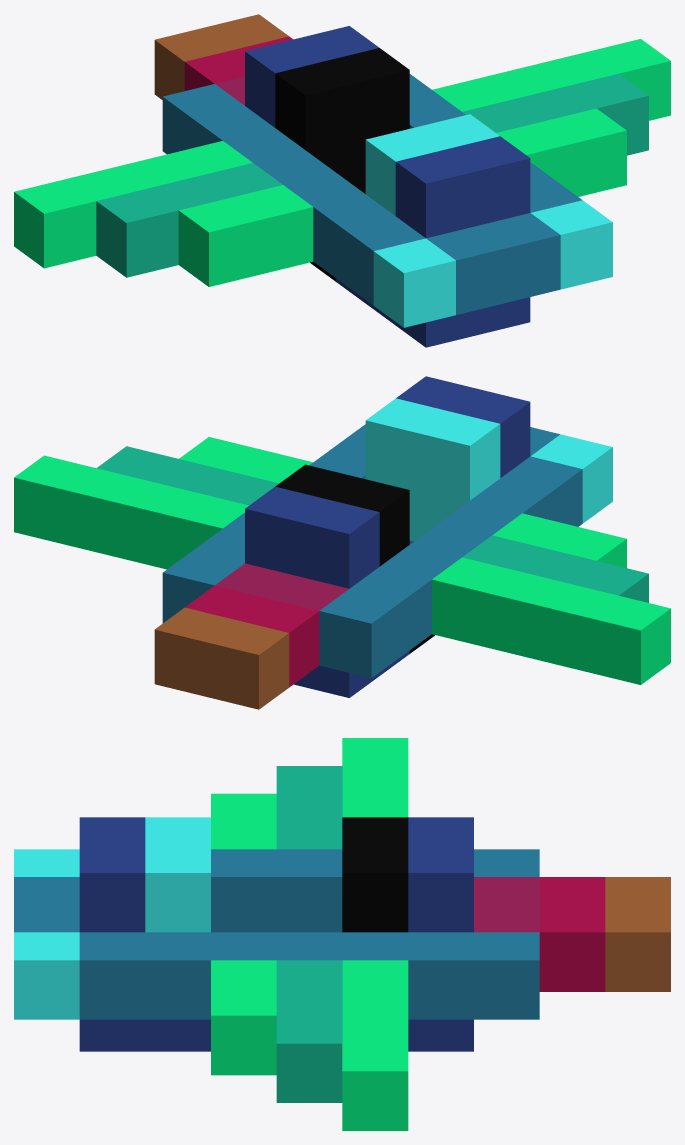
Rendered from naves-2.obj.
3 renders of one model, top to bottom at view 1: azimuth 30°, elevation 25°; view 2: azimuth 150°, elevation 25°; view 3: azimuth 270°, elevation 25°, orthographic. The views are drawn at different scales.
Bounding box in the file's own units: 1.2 × 0.3 × 1.
1 material, 1 textured.
